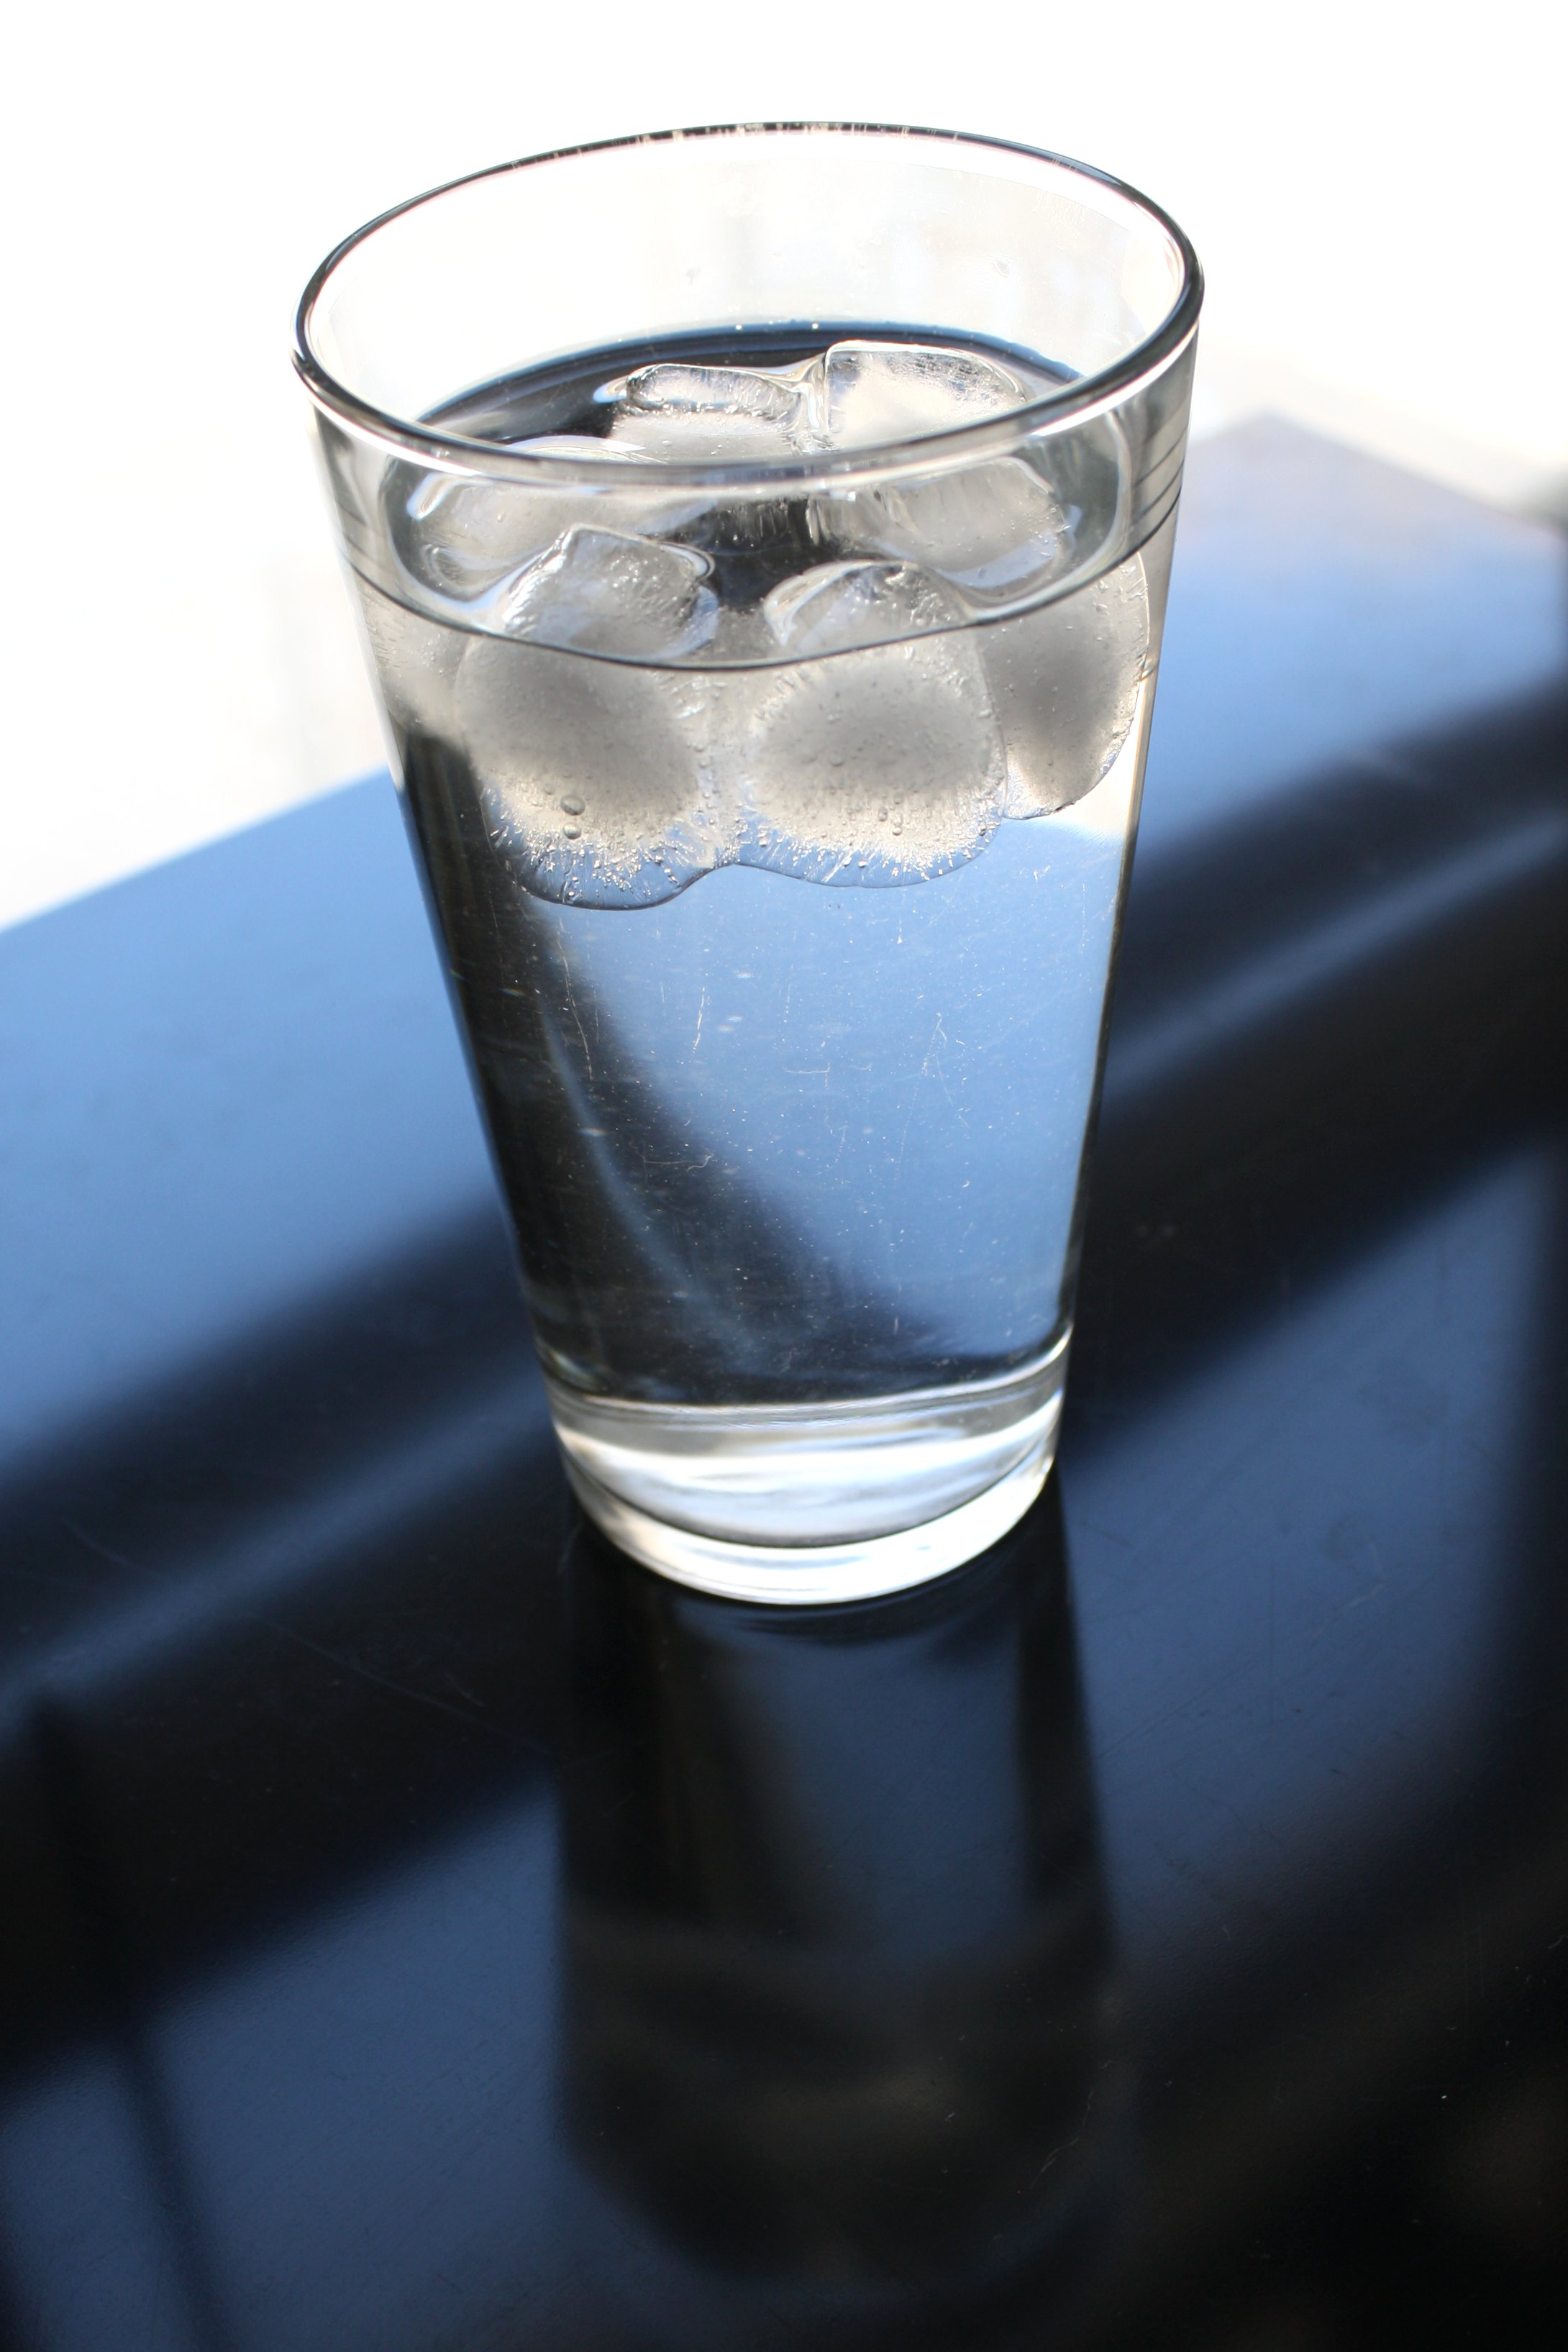glass of water: (453, 308, 1031, 1580)
